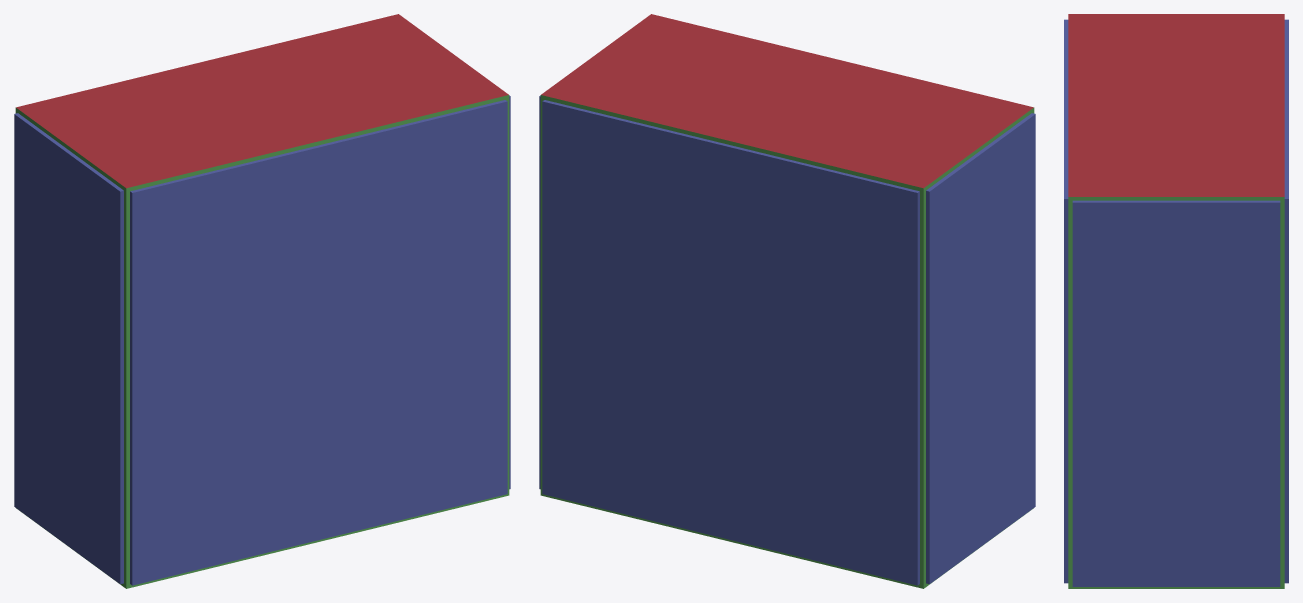
Rendered from SM_Wall_2x2_01.fbx.
The picture shows the model from 3 angles, left to right: view 1: azimuth 30°, elevation 25°; view 2: azimuth 150°, elevation 25°; view 3: azimuth 270°, elevation 25°; orthographic projection. The views are drawn at different scales.
Parts seen in each view (by area): view 1: SM_Wall_2x2_01; view 2: SM_Wall_2x2_01; view 3: SM_Wall_2x2_01.
Part boxes in pixels (x1=…): SM_Wall_2x2_01: x1=14, y1=14, x2=510, y2=588; SM_Wall_2x2_01: x1=539, y1=14, x2=1035, y2=588; SM_Wall_2x2_01: x1=1064, y1=14, x2=1288, y2=588.
Size of the model in its own units: 204 by 200 by 104.
